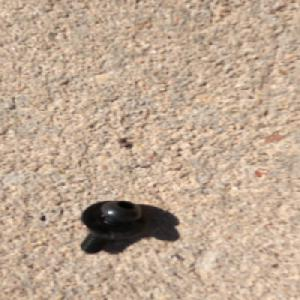BoltWasher: (76, 198, 149, 254)
